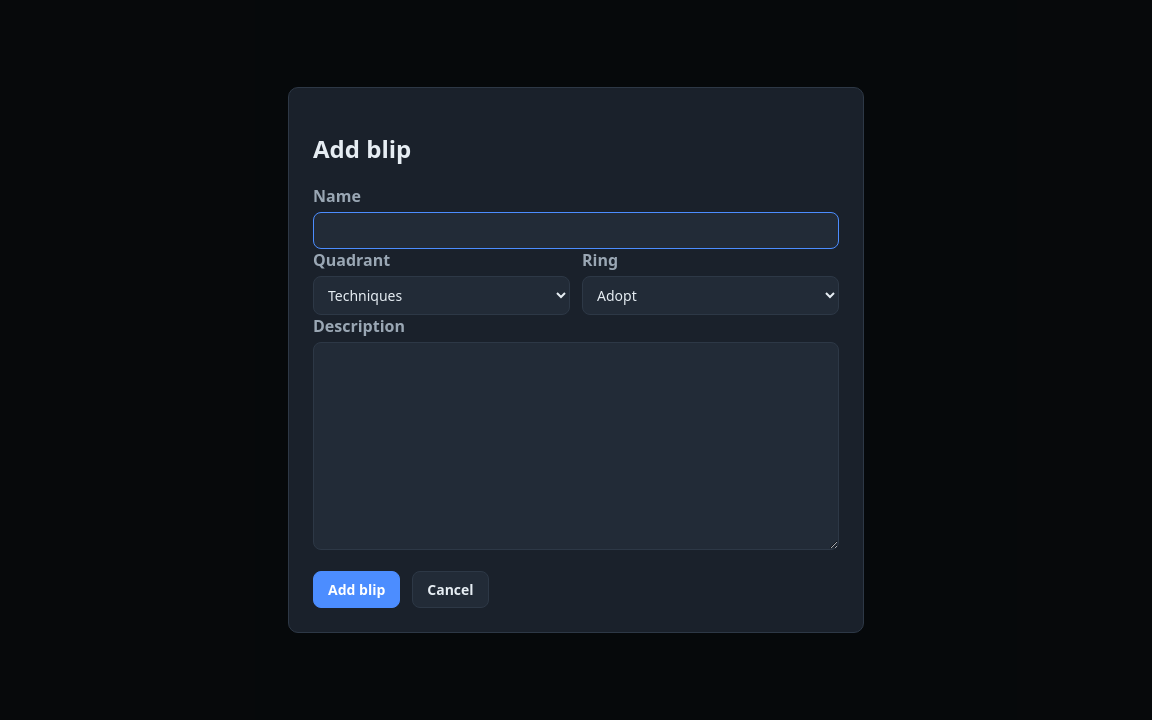
Test: AddBlipDrawer › blocks submission with a blank description and makes no request
Type "Service Mesh" into the field labelled "Name" at (576, 230), box [313, 212, 839, 249]
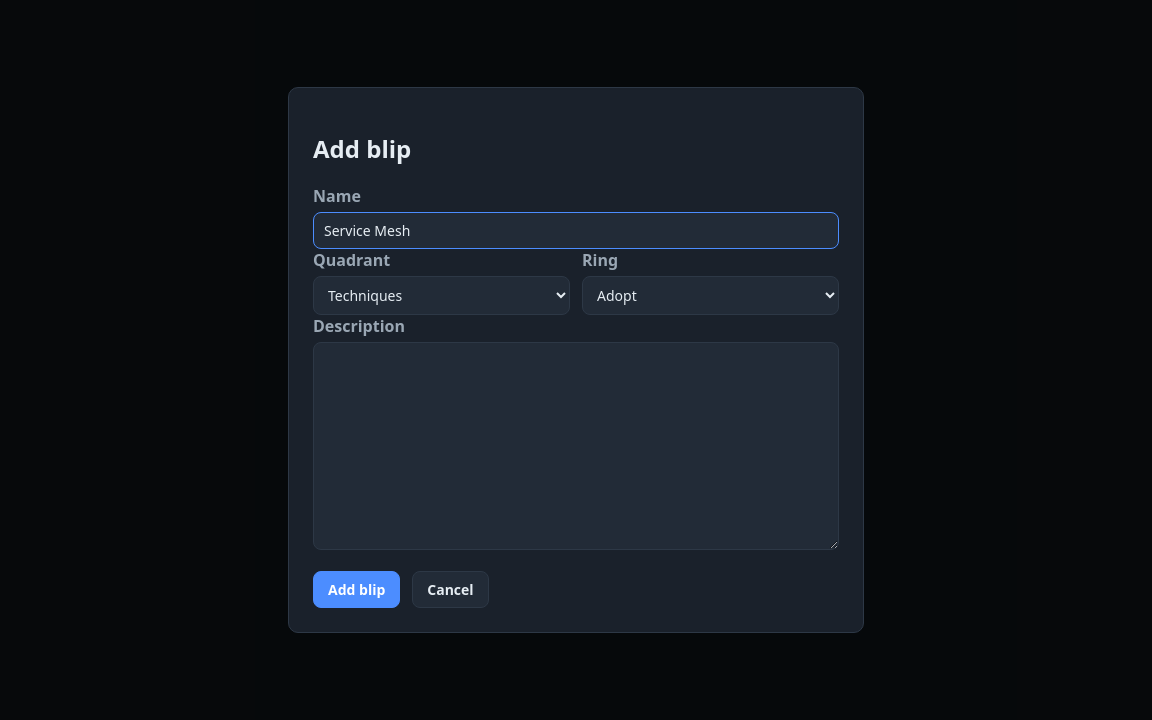
Click the button "Add blip" at (357, 589), box [313, 571, 400, 608]
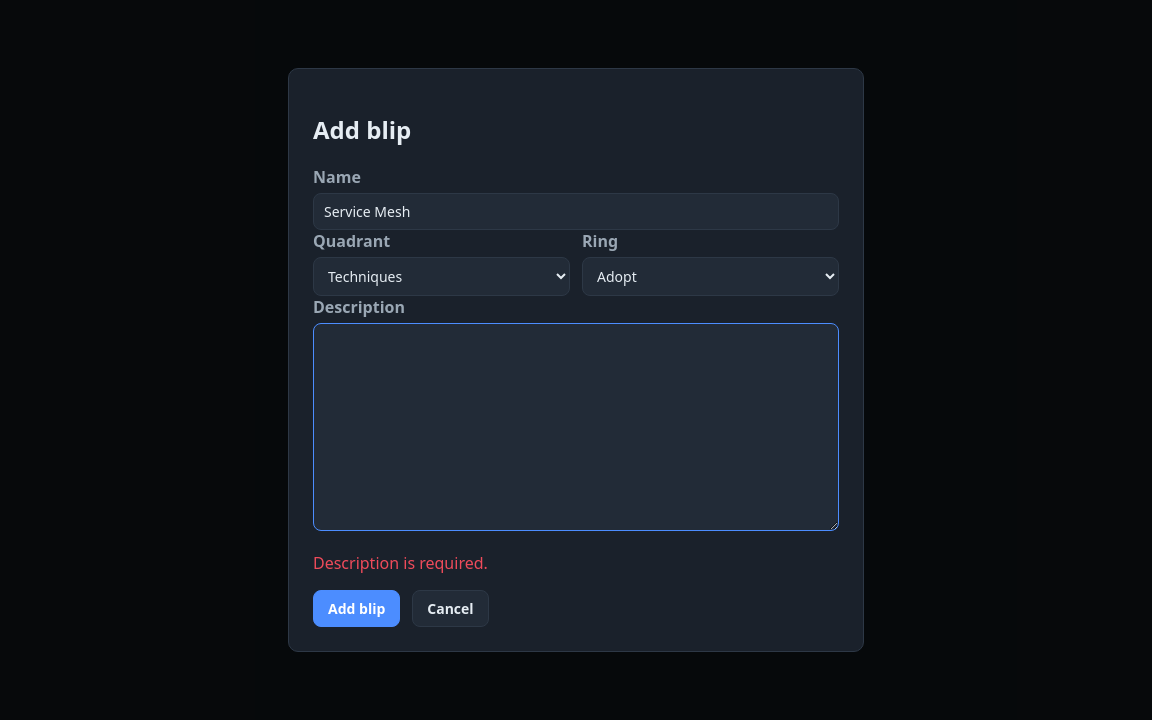
expect the message reads "Description is required.": met, box [313, 552, 488, 574]
